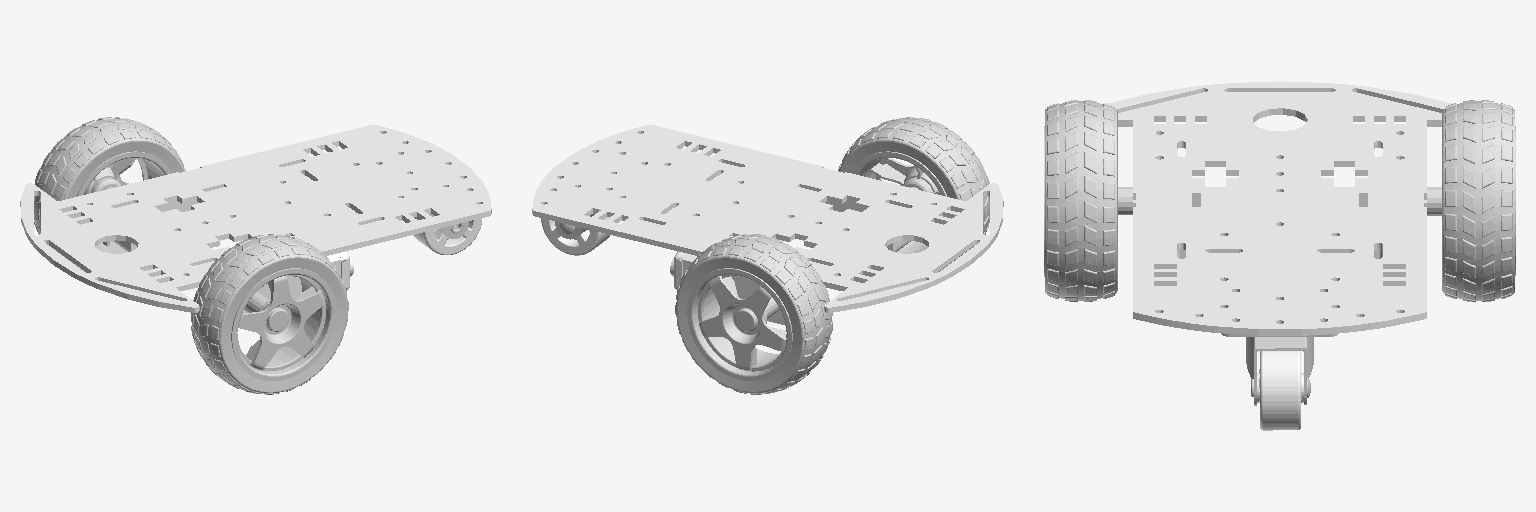
The robot description file, URDF, robot "line_follower":
<?xml version="1.0" encoding="utf-8"?>
<!-- This URDF was automatically created by SolidWorks to URDF Exporter! Originally created by Stephen Brawner (brawner@gmail.com) 
     Commit Version: 1.6.0-4-g7f85cfe  Build Version: 1.6.7995.38578
     For more information, please see http://wiki.ros.org/sw_urdf_exporter -->
<robot
  name="line_follower">
  <link
    name="base_link">
    <inertial>
      <origin
        xyz="-0.0075918946700384 -4.44089209850063E-16 -0.00713951178349159"
        rpy="0 0 0" />
      <mass
        value="0.100515235465146" />
      <inertia
        ixx="4.9396325872263E-05"
        ixy="4.29669252894244E-19"
        ixz="-1.18751049241419E-18"
        iyy="0.000176817707530233"
        iyz="1.80987763434808E-14"
        izz="0.000222570729896727" />
    </inertial>
    <visual>
      <origin
        xyz="0 0 0"
        rpy="0 0 0" />
      <geometry>
        <mesh
          filename="package://line_follower/meshes/base_link.STL" />
      </geometry>
      <material
        name="">
        <color
          rgba="1 1 1 0.3" />
      </material>
    </visual>
    <collision>
      <origin
        xyz="0 0 0"
        rpy="0 0 0" />
      <geometry>
        <mesh
          filename="package://line_follower/meshes/base_link.STL" />
      </geometry>
    </collision>
  </link>
  <link
    name="left_wheel">
    <inertial>
      <origin
        xyz="2.27139063113668E-09 -3.24453020006388E-08 -0.00737294168874181"
        rpy="0 0 0" />
      <mass
        value="0.02140421984347" />
      <inertia
        ixx="8.62831877556453E-06"
        ixy="-3.38017045012741E-12"
        ixz="3.14321395351183E-13"
        iyy="8.62688078965145E-06"
        iyz="-9.89545680070807E-12"
        izz="1.45151853032917E-05" />
    </inertial>
    <visual>
      <origin
        xyz="0 0 0"
        rpy="0 0 0" />
      <geometry>
        <mesh
          filename="package://line_follower/meshes/left_wheel.STL" />
      </geometry>
      <material
        name="">
        <color
          rgba="0.894117647058823 0.894117647058823 0.894117647058823 1" />
      </material>
    </visual>
    <collision>
      <origin
        xyz="0 0 0"
        rpy="0 0 0" />
      <geometry>
        <mesh
          filename="package://line_follower/meshes/left_wheel.STL" />
      </geometry>
    </collision>
  </link>
  <joint
    name="leftwheel"
    type="continuous">
    <origin
      xyz="-0.0337586915199681 0.07575 -0.0137500000000006"
      rpy="-1.5707963267949 0 0" />
    <parent
      link="base_link" />
    <child
      link="left_wheel" />
    <axis
      xyz="0 0 -1" />
    <limit
      effort="10"
      velocity="10" />
    <dynamics
      damping="0.1"
      friction="0.1" />
  </joint>
  <link
    name="right_wheel">
    <inertial>
      <origin
        xyz="2.27139551611799E-09 3.24453195421626E-08 0.0073729416887407"
        rpy="0 0 0" />
      <mass
        value="0.0214042198434857" />
      <inertia
        ixx="8.62831877556985E-06"
        ixy="3.38016729448206E-12"
        ixz="-3.143209324933E-13"
        iyy="8.62688078965684E-06"
        iyz="-9.89545792289448E-12"
        izz="1.45151853033031E-05" />
    </inertial>
    <visual>
      <origin
        xyz="0 0 0"
        rpy="0 0 0" />
      <geometry>
        <mesh
          filename="package://line_follower/meshes/right_wheel.STL" />
      </geometry>
      <material
        name="">
        <color
          rgba="0.894117647058823 0.894117647058823 0.894117647058823 1" />
      </material>
    </visual>
    <collision>
      <origin
        xyz="0 0 0"
        rpy="0 0 0" />
      <geometry>
        <mesh
          filename="package://line_follower/meshes/right_wheel.STL" />
      </geometry>
    </collision>
  </link>
  <joint
    name="rightwheel"
    type="continuous">
    <origin
      xyz="-0.0337586915199652 -0.0757500000000004 -0.0137499999999964"
      rpy="-1.5707963267949 0 0" />
    <parent
      link="base_link" />
    <child
      link="right_wheel" />
    <axis
      xyz="0 0 1" />
    <limit
      effort="10"
      velocity="10" />
    <dynamics
      damping="0.1"
      friction="0.1" />
  </joint>
  <link
    name="castor">
    <inertial>
      <origin
        xyz="0.00235455649021032 5.31970296664408E-05 -0.00587901557792359"
        rpy="0 0 0" />
      <mass
        value="0.0442610580755173" />
      <inertia
        ixx="4.03028933596686E-06"
        ixy="-9.77267564433235E-10"
        ixz="2.48052318082785E-07"
        iyy="4.0965891242443E-06"
        iyz="2.45566862777418E-09"
        izz="7.14121652849108E-06" />
    </inertial>
    <visual>
      <origin
        xyz="0 0 0"
        rpy="0 0 0" />
      <geometry>
        <mesh
          filename="package://line_follower/meshes/castor.STL" />
      </geometry>
      <material
        name="">
        <color
          rgba="0.898039215686275 0.898039215686275 0.898039215686275 1" />
      </material>
    </visual>
    <collision>
      <origin
        xyz="0 0 0"
        rpy="0 0 0" />
      <geometry>
        <mesh
          filename="package://line_follower/meshes/castor.STL" />
      </geometry>
    </collision>
  </link>
  <joint
    name="castor_joint"
    type="continuous">
    <origin
      xyz="0.0767413084800314 0 -0.00249999999999972"
      rpy="0 0 0" />
    <parent
      link="base_link" />
    <child
      link="castor" />
    <axis
      xyz="0 0 1" />
    <limit
      effort="10"
      velocity="10" />
  </joint>
  <link
    name="castor_wheel">
    <inertial>
      <origin
        xyz="2.62038168941103E-11 4.44089209850063E-16 -2.77710099361173E-09"
        rpy="0 0 0" />
      <mass
        value="0.00828739992319066" />
      <inertia
        ixx="6.39299912774574E-07"
        ixy="-5.35439018296775E-23"
        ixz="-3.50834634007331E-09"
        iyy="6.3926680927576E-07"
        iyz="-2.78340256192331E-22"
        izz="1.01108533248036E-06" />
    </inertial>
    <visual>
      <origin
        xyz="0 0 0"
        rpy="0 0 0" />
      <geometry>
        <mesh
          filename="package://line_follower/meshes/castor_wheel.STL" />
      </geometry>
      <material
        name="">
        <color
          rgba="1 1 1 1" />
      </material>
    </visual>
    <collision>
      <origin
        xyz="0 0 0"
        rpy="0 0 0" />
      <geometry>
        <mesh
          filename="package://line_follower/meshes/castor_wheel.STL" />
      </geometry>
    </collision>
  </link>
  <joint
    name="castorwheel_joint"
    type="continuous">
    <origin
      xyz="0.0150142056791569 0.000141668664297878 -0.0229601469749996"
      rpy="-1.5707963267949 0 0" />
    <parent
      link="castor" />
    <child
      link="castor_wheel" />
    <axis
      xyz="-0.00943522163405569 0 0.999955487305668" />
    <limit
      effort="10"
      velocity="10" />
    <dynamics
      damping="0.1"
      friction="0.1" />
  </joint>
</robot>

--- Render facts (derived) ---
The picture shows the robot from 3 angles, left to right: view 1: azimuth 30°, elevation 25°; view 2: azimuth 150°, elevation 25°; view 3: azimuth 270°, elevation 25°; orthographic projection.
Robot: line_follower — 5 links, 4 joints (4 continuous); root link base_link; default pose: all joints at 0.
Visible links, largest first — view 1: base_link, right_wheel, left_wheel, castor_wheel; view 2: base_link, left_wheel, right_wheel, castor_wheel; view 3: base_link, left_wheel, right_wheel, castor_wheel, castor.
Boxes of the visible links, x1,y1,x2,y2 form: base_link: [20, 124, 491, 312]; right_wheel: [191, 234, 348, 394]; left_wheel: [34, 117, 185, 271]; castor_wheel: [413, 217, 481, 254]; base_link: [532, 124, 1003, 325]; left_wheel: [675, 234, 832, 394]; right_wheel: [838, 117, 989, 271]; castor_wheel: [541, 217, 609, 255]; base_link: [1107, 81, 1452, 335]; left_wheel: [1427, 100, 1515, 301]; right_wheel: [1044, 100, 1132, 301]; castor_wheel: [1257, 351, 1303, 430]; castor: [1221, 333, 1337, 405].
Size in the robot's own frame: 0.2071 by 0.1605 by 0.0689 metres.
5 mesh visuals loaded from 5 distinct referenced files (5 binary STL).
